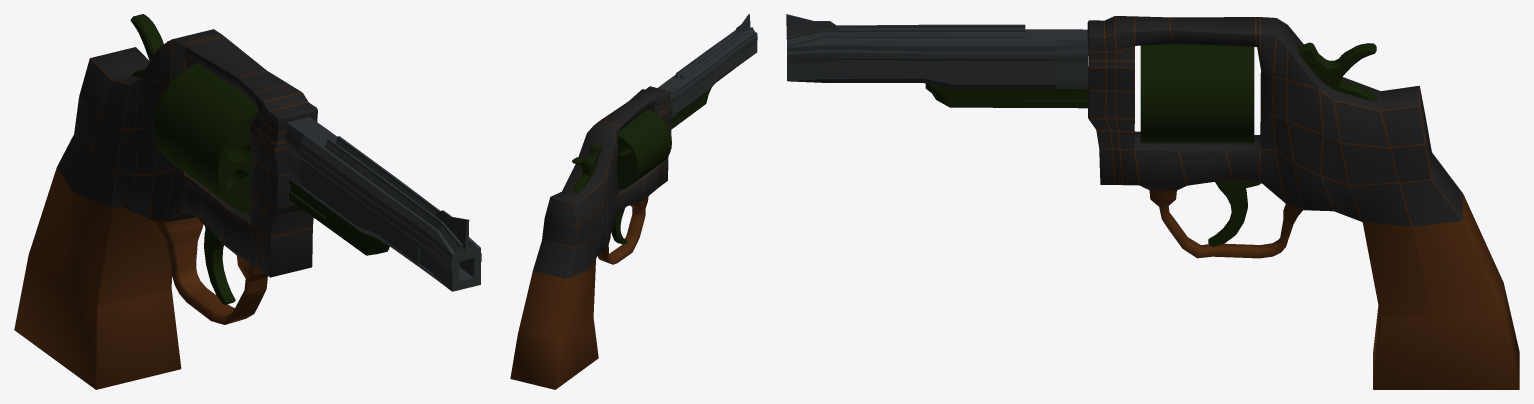
The model's file is revolver.fbx.
3 renders of one model, left to right at view 1: azimuth 30°, elevation 25°; view 2: azimuth 150°, elevation 25°; view 3: azimuth 270°, elevation 25°, orthographic. The views are drawn at different scales.
Parts seen in each view (by area): view 1: revolver; view 2: revolver; view 3: revolver.
Part boxes in pixels (x1,y1,x2,y2): revolver: (14,14,481,389); revolver: (510,14,757,389); revolver: (786,14,1519,389).
Size of the model in its own units: 48.18 by 180 by 335.
